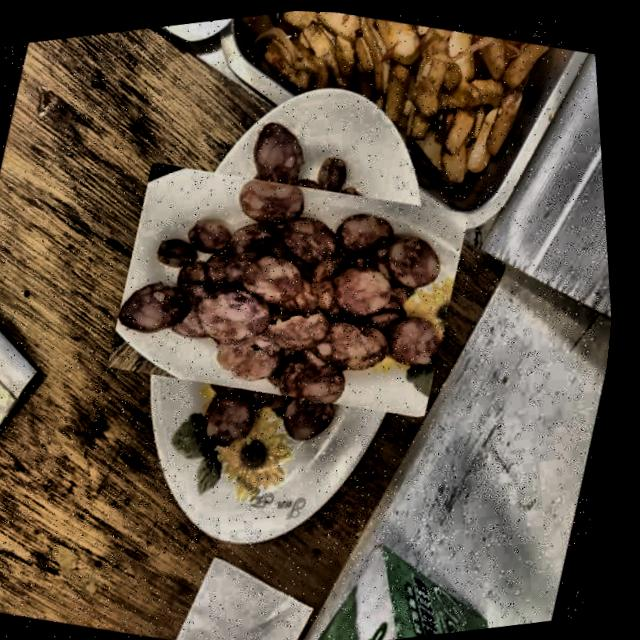Food: (92, 94, 495, 481)
